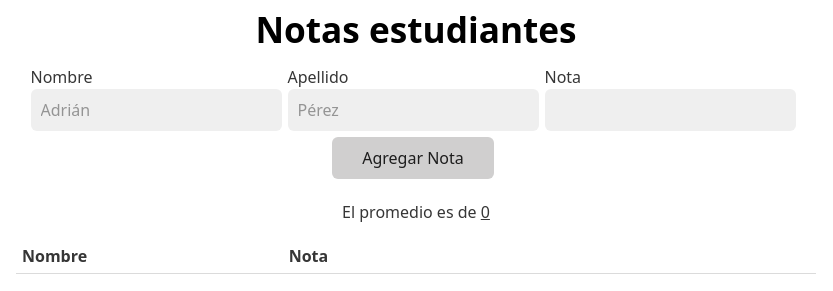
Scenario: input nombre únicamente permite letras del abecedario
Note: Ingresar un valor con números y carácteres especiales
In the field labelled "Nombre": [156, 110] box [30,89,282,131], type "abc123-+"
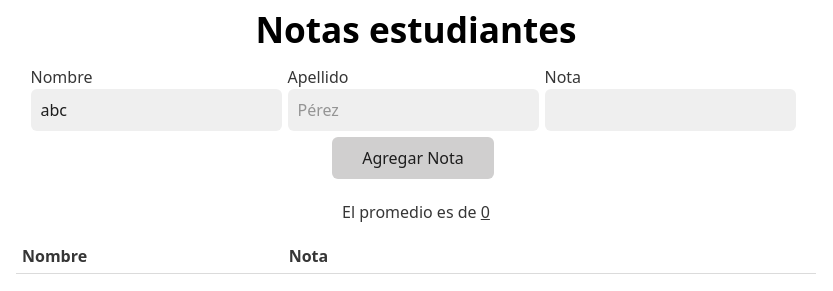
Now the field labelled "Nombre" holds "abc", box [30,89,282,131]
